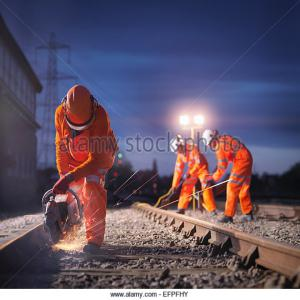white: (202, 129, 222, 151), (170, 136, 187, 158)
